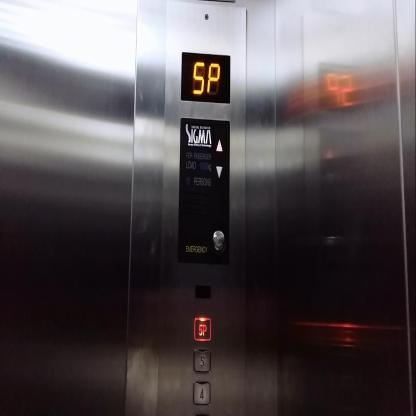4: (193, 378, 211, 406)
5: (192, 346, 211, 376)
5P: (193, 315, 211, 341)
alarm: (209, 226, 227, 251)
led: (180, 51, 230, 104)
